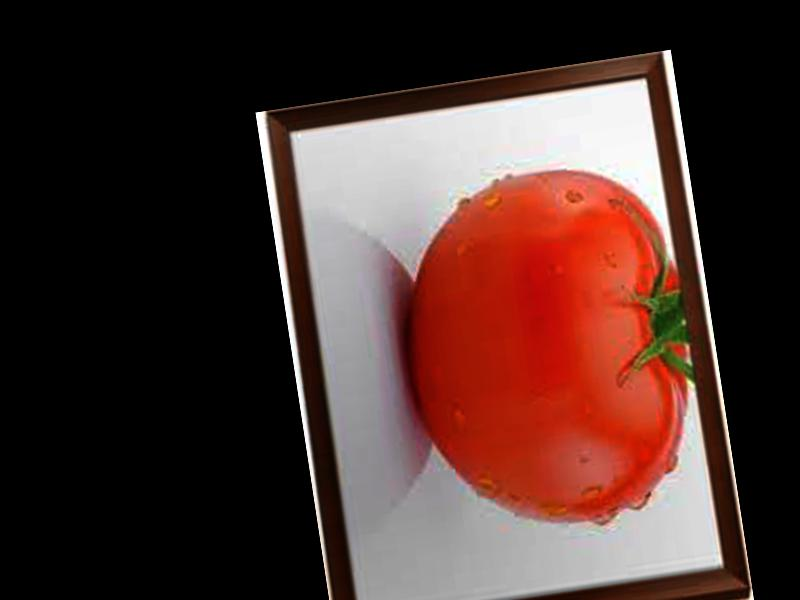Tomato: (383, 154, 714, 544)
